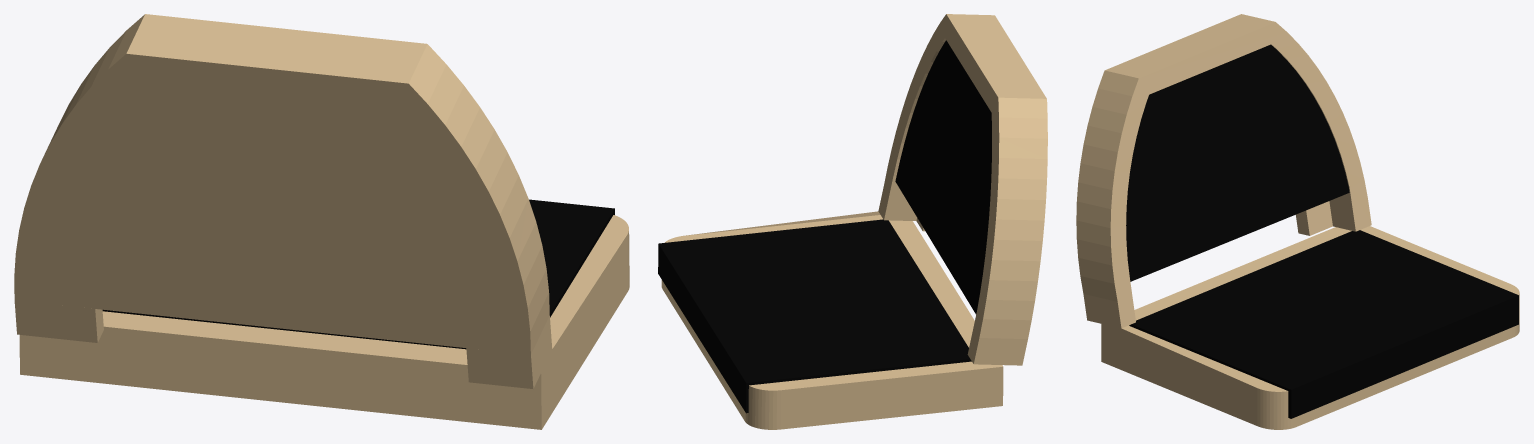
Rendered from BassBoat-FrontSeat.obj.
The picture shows the model from 3 angles, left to right: view 1: azimuth 30°, elevation 25°; view 2: azimuth 150°, elevation 25°; view 3: azimuth 270°, elevation 25°; orthographic projection. The views are drawn at different scales.
Visible parts, largest first — view 1: FrontSeat; view 2: FrontSeat; view 3: FrontSeat.
Part boxes in pixels (bbox=[...]): FrontSeat: bbox=[14, 14, 629, 429]; FrontSeat: bbox=[658, 14, 1047, 429]; FrontSeat: bbox=[1076, 14, 1519, 429].
Size of the model in its own units: 0.313 by 0.2033 by 0.3162.
